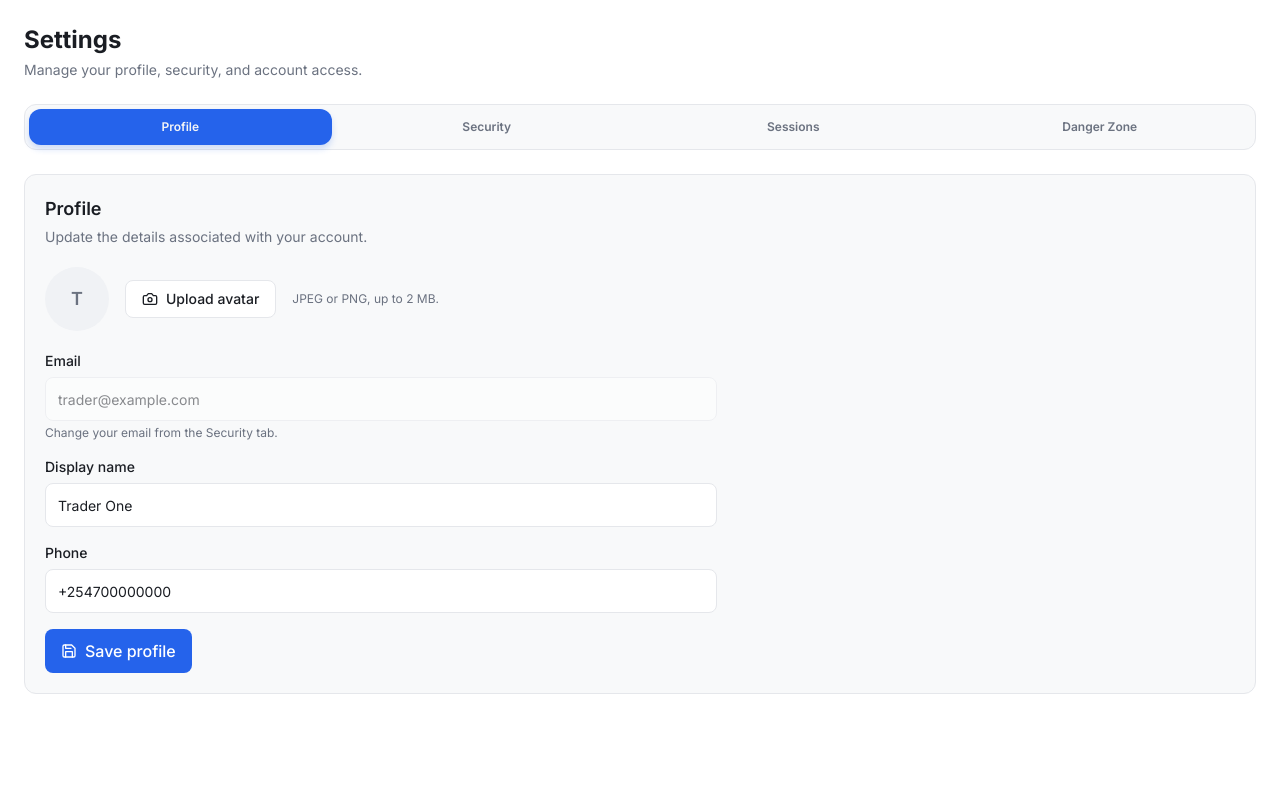
it: SettingsPage › loads sessions and revokes a non-current session
Expected: the heading "Profile" is shown, [45,198,102,219]
Click the button "Sessions" at point(793, 127), box [642,109,944,145]
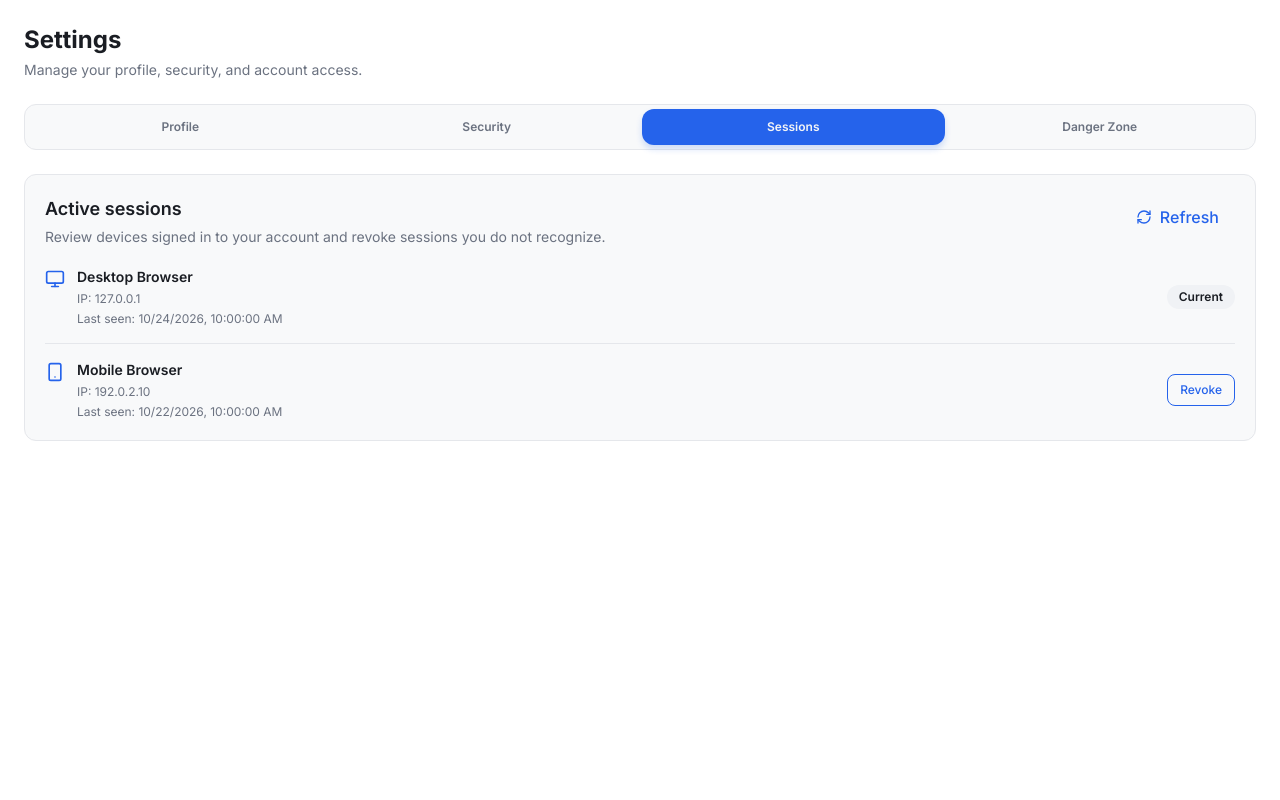
Result: the text "Desktop Browser" is shown at [77,268,193,285]
Result: the text "Current" is shown at [1167,285,1235,309]
Click the button "Revoke" at point(1201, 390), box [1167,374,1235,406]
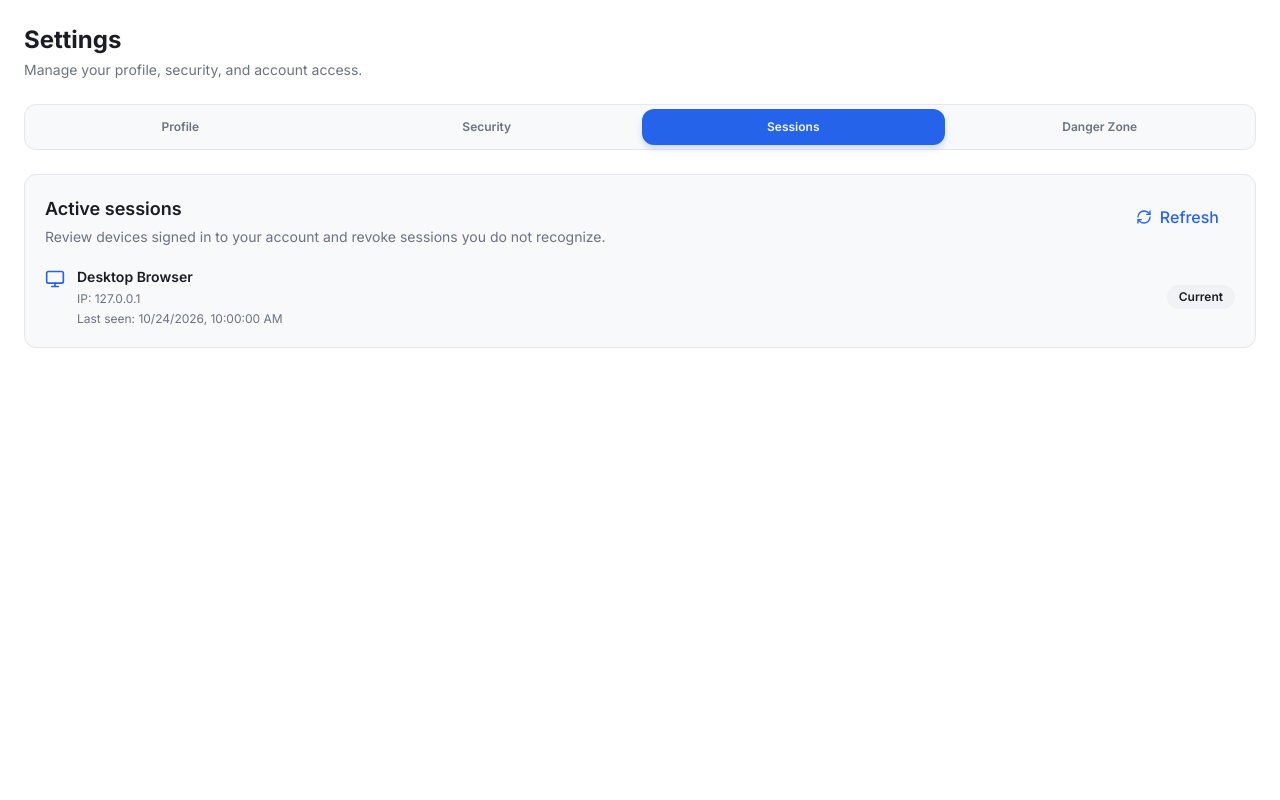
Result: the text "Mobile Browser" is gone
